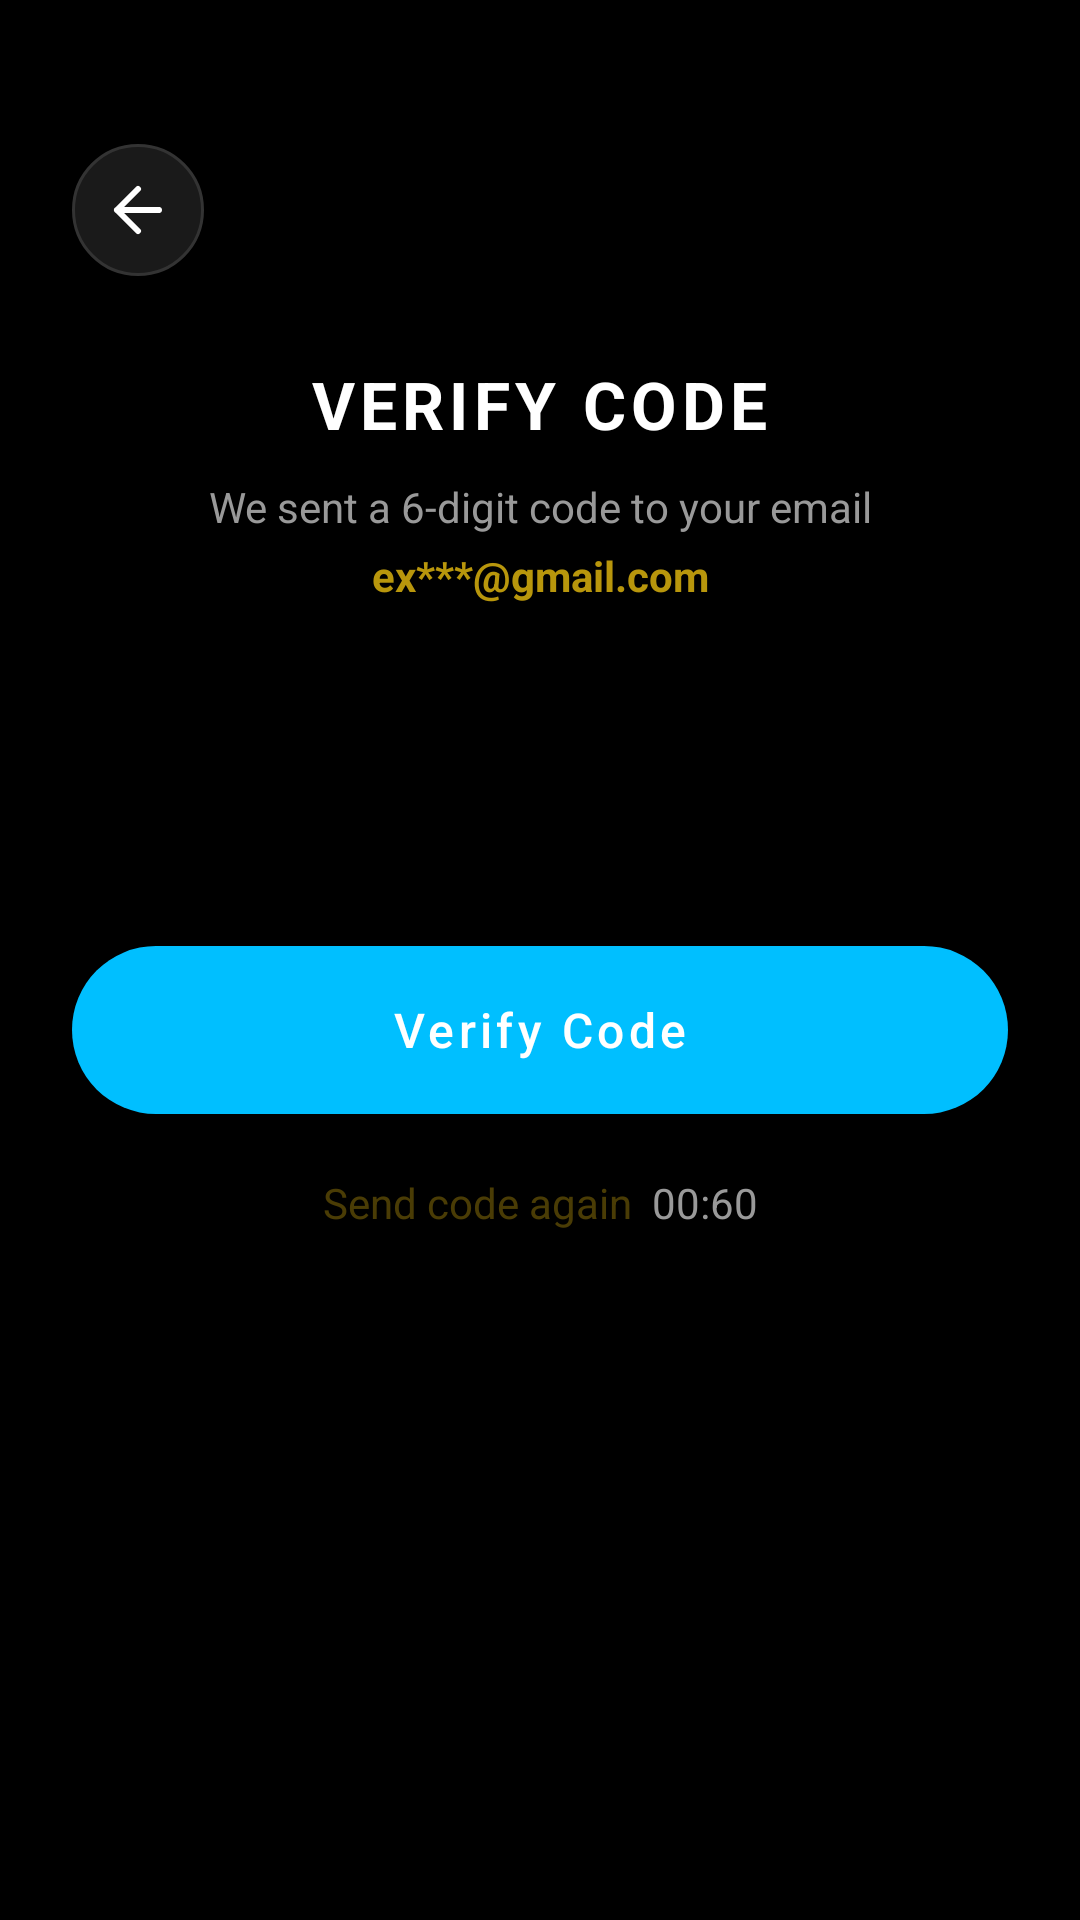

Where to tap for icons on this 1080px x 1920px app screen, as [x,y]:
Back: [138,210]
